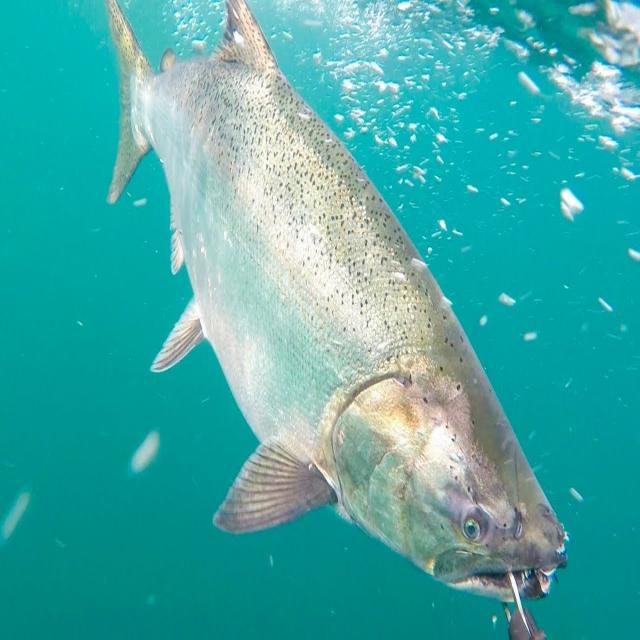salmon: (93, 0, 566, 640)
